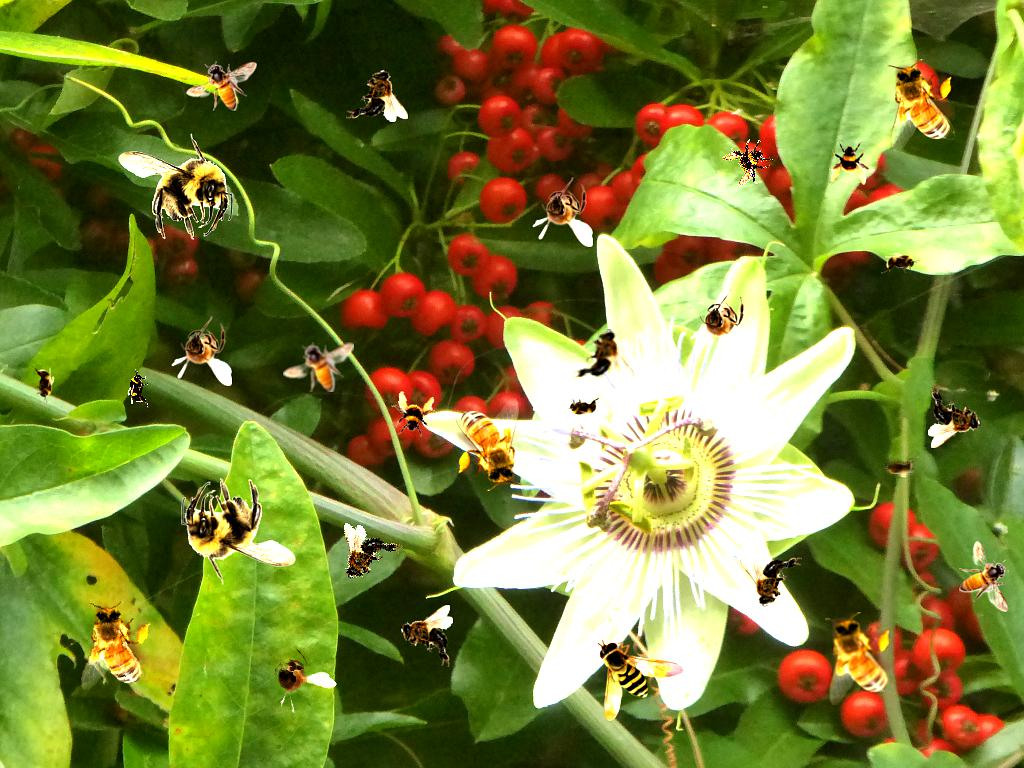Bee: (118, 133, 233, 240), (181, 478, 296, 585), (247, 631, 340, 725), (75, 596, 157, 699), (597, 639, 685, 721), (825, 612, 893, 705), (455, 398, 523, 491), (887, 59, 955, 152), (326, 519, 405, 593), (532, 177, 593, 247), (690, 289, 751, 359), (171, 316, 232, 386), (718, 132, 780, 194), (959, 541, 1009, 612), (283, 342, 354, 392), (186, 61, 257, 111), (346, 69, 408, 122), (740, 554, 802, 607), (572, 329, 634, 382), (400, 605, 453, 667), (928, 386, 981, 448), (387, 389, 437, 439), (829, 141, 873, 185), (127, 368, 149, 408), (881, 252, 921, 274), (879, 456, 919, 478), (563, 396, 603, 418), (33, 364, 55, 404)
